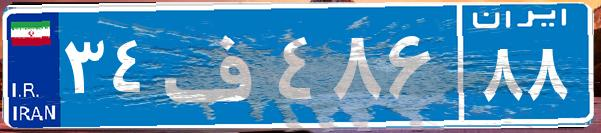3: (57, 26, 110, 107)
4: (273, 28, 330, 110), (110, 28, 158, 105)
6: (385, 28, 445, 110)
8: (330, 28, 385, 110), (475, 38, 525, 113), (525, 38, 570, 115)
ف: (158, 15, 273, 115)
